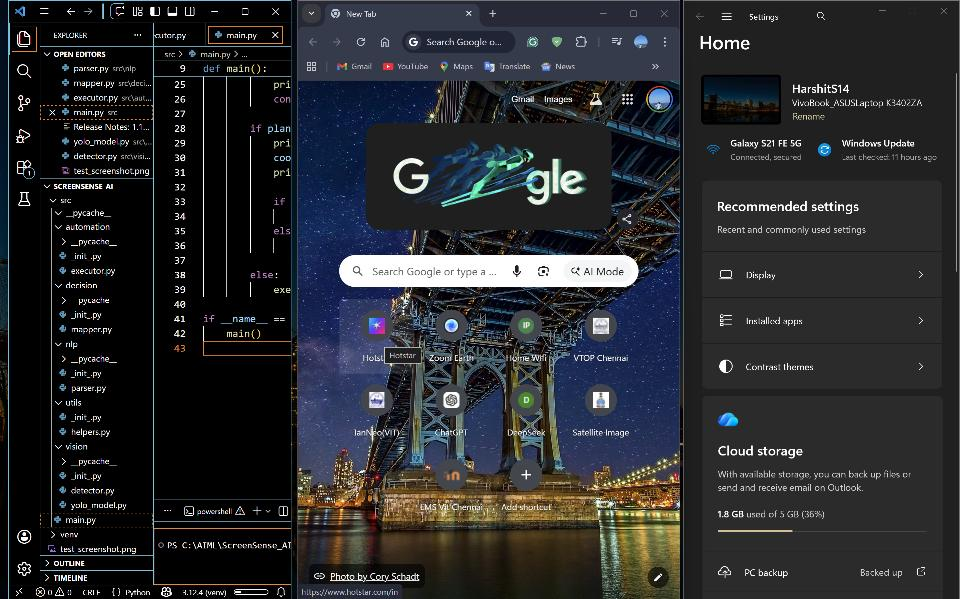close_button: (931, 0, 955, 22), (656, 1, 675, 26), (263, 1, 285, 22)
maximize_button: (622, 0, 647, 26), (235, 0, 256, 22), (902, 2, 924, 20)
minimize_button: (591, 1, 616, 26), (871, 0, 896, 22), (206, 2, 227, 23)
